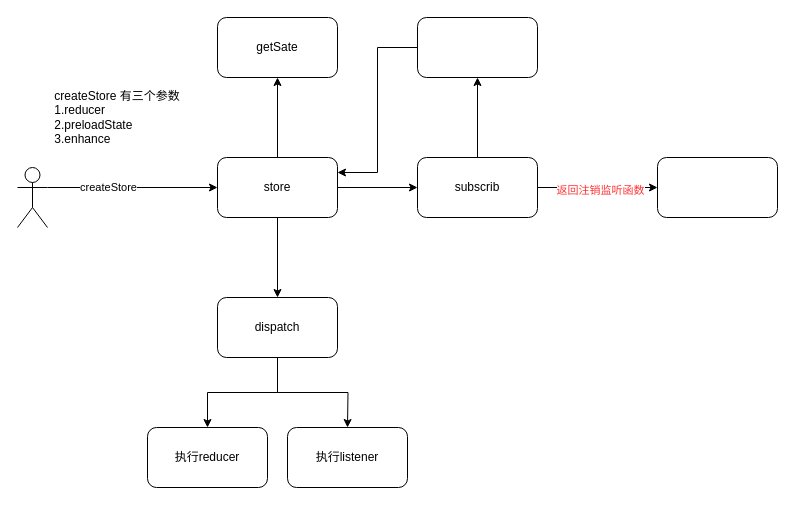
The diagram is 795 pixels wide and 505 high, and some of its shapes have lost their labels. The shapes that lost their labels are listed below. From the top down, each one's box as (x1, y1, x2, y2) in pixels, then its label:
(416, 16, 538, 78): 注册监听函数（listener）
(16, 166, 48, 228): Actor
(656, 156, 778, 218): unsubscrib
